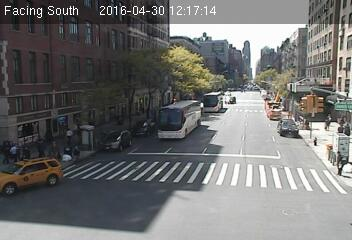neg: (196, 131, 233, 179), (290, 151, 315, 184), (153, 88, 176, 118), (263, 106, 283, 132), (207, 94, 220, 112), (222, 70, 235, 88), (121, 95, 132, 111), (169, 49, 179, 61), (204, 56, 214, 68), (272, 78, 279, 88)
